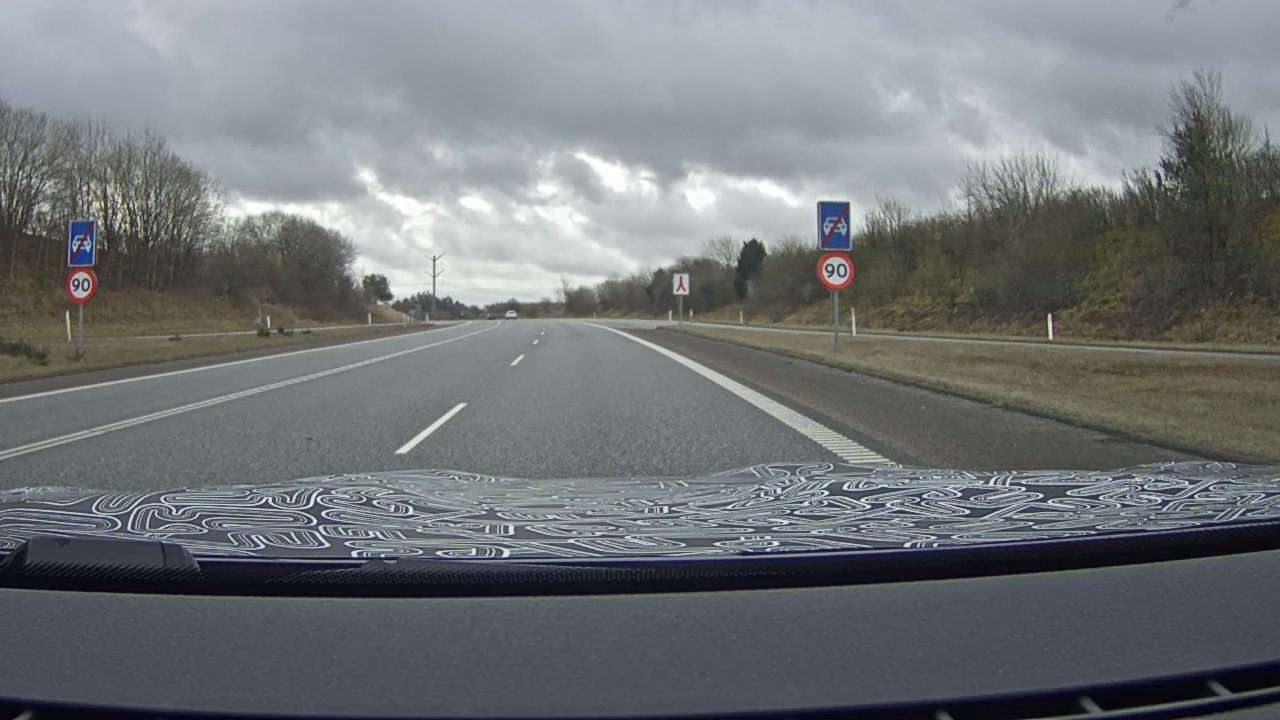Expressway_End: (816, 200, 852, 252), (67, 220, 97, 267)
